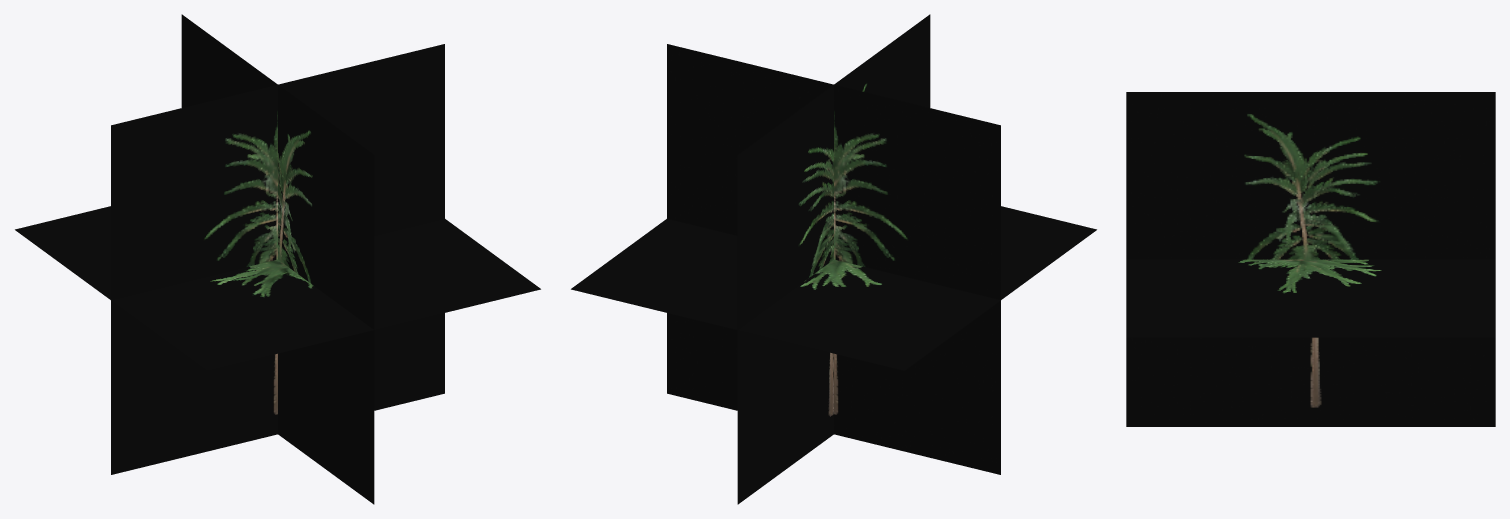
Rendered from far.glb.
The picture shows the model from 3 angles, left to right: view 1: azimuth 30°, elevation 25°; view 2: azimuth 150°, elevation 25°; view 3: azimuth 270°, elevation 25°; orthographic projection. The views are drawn at different scales.
Visible parts, largest first — view 1: far; view 2: far; view 3: far.
Boxes of the visible parts, box(x1,y1,x2,y2) form: far: box(15, 14, 540, 504); far: box(571, 14, 1096, 504); far: box(1126, 92, 1495, 426).
Bounding box in the file's own units: 24.09 × 24.09 × 24.09.
2 materials, 2 textured.
